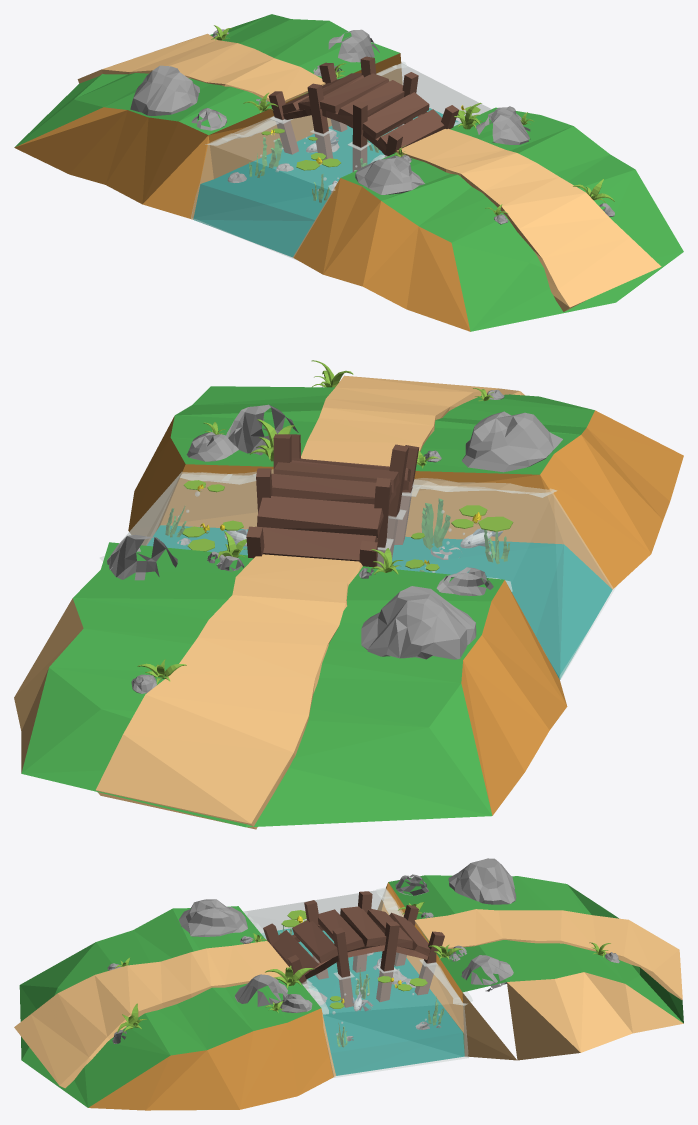
The model's file is Old Bridge by Lintufriikki - c6XnoUTQRsy.glb.
3 renders of one model, top to bottom at view 1: azimuth 30°, elevation 25°; view 2: azimuth 150°, elevation 25°; view 3: azimuth 270°, elevation 25°, orthographic. The views are drawn at different scales.
Parts seen in each view (by area): view 1: group1434121163; view 2: group1434121163; view 3: group1434121163.
Boxes of the visible parts, <box> form: group1434121163: <box>14,14,683,331</box>; group1434121163: <box>14,360,683,829</box>; group1434121163: <box>14,858,683,1110</box>.
Bounding box in the file's own units: 5.22 × 1.39 × 7.47.
